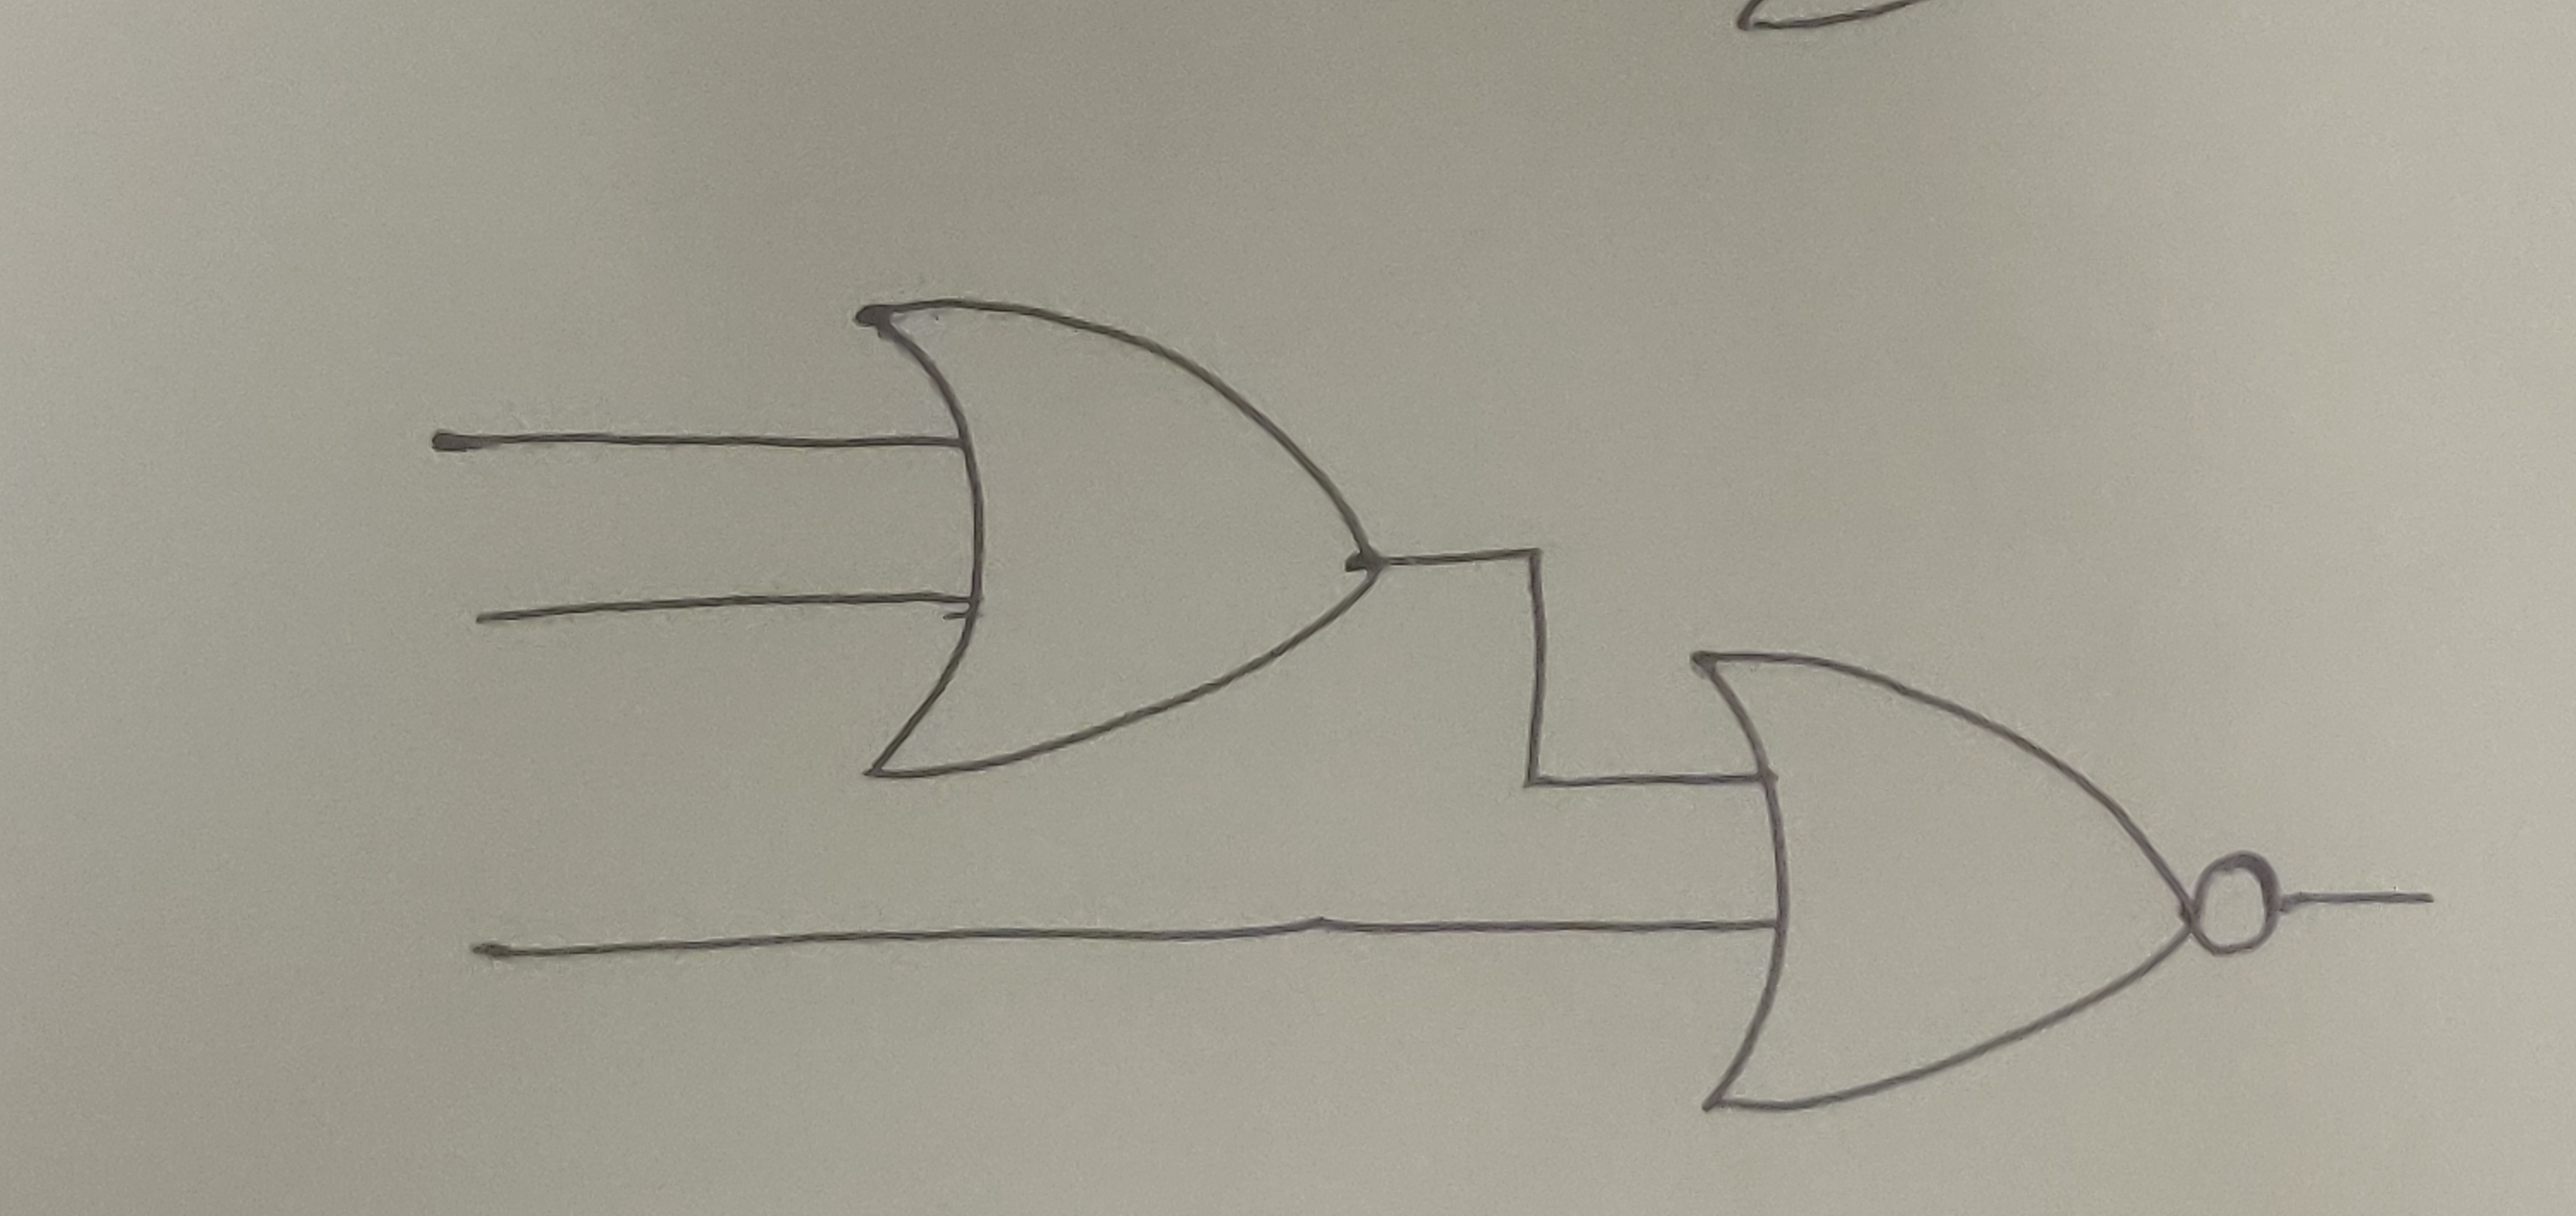not: (2185, 845, 2284, 970)
or: (854, 302, 1380, 782), (1686, 644, 2201, 1114)
